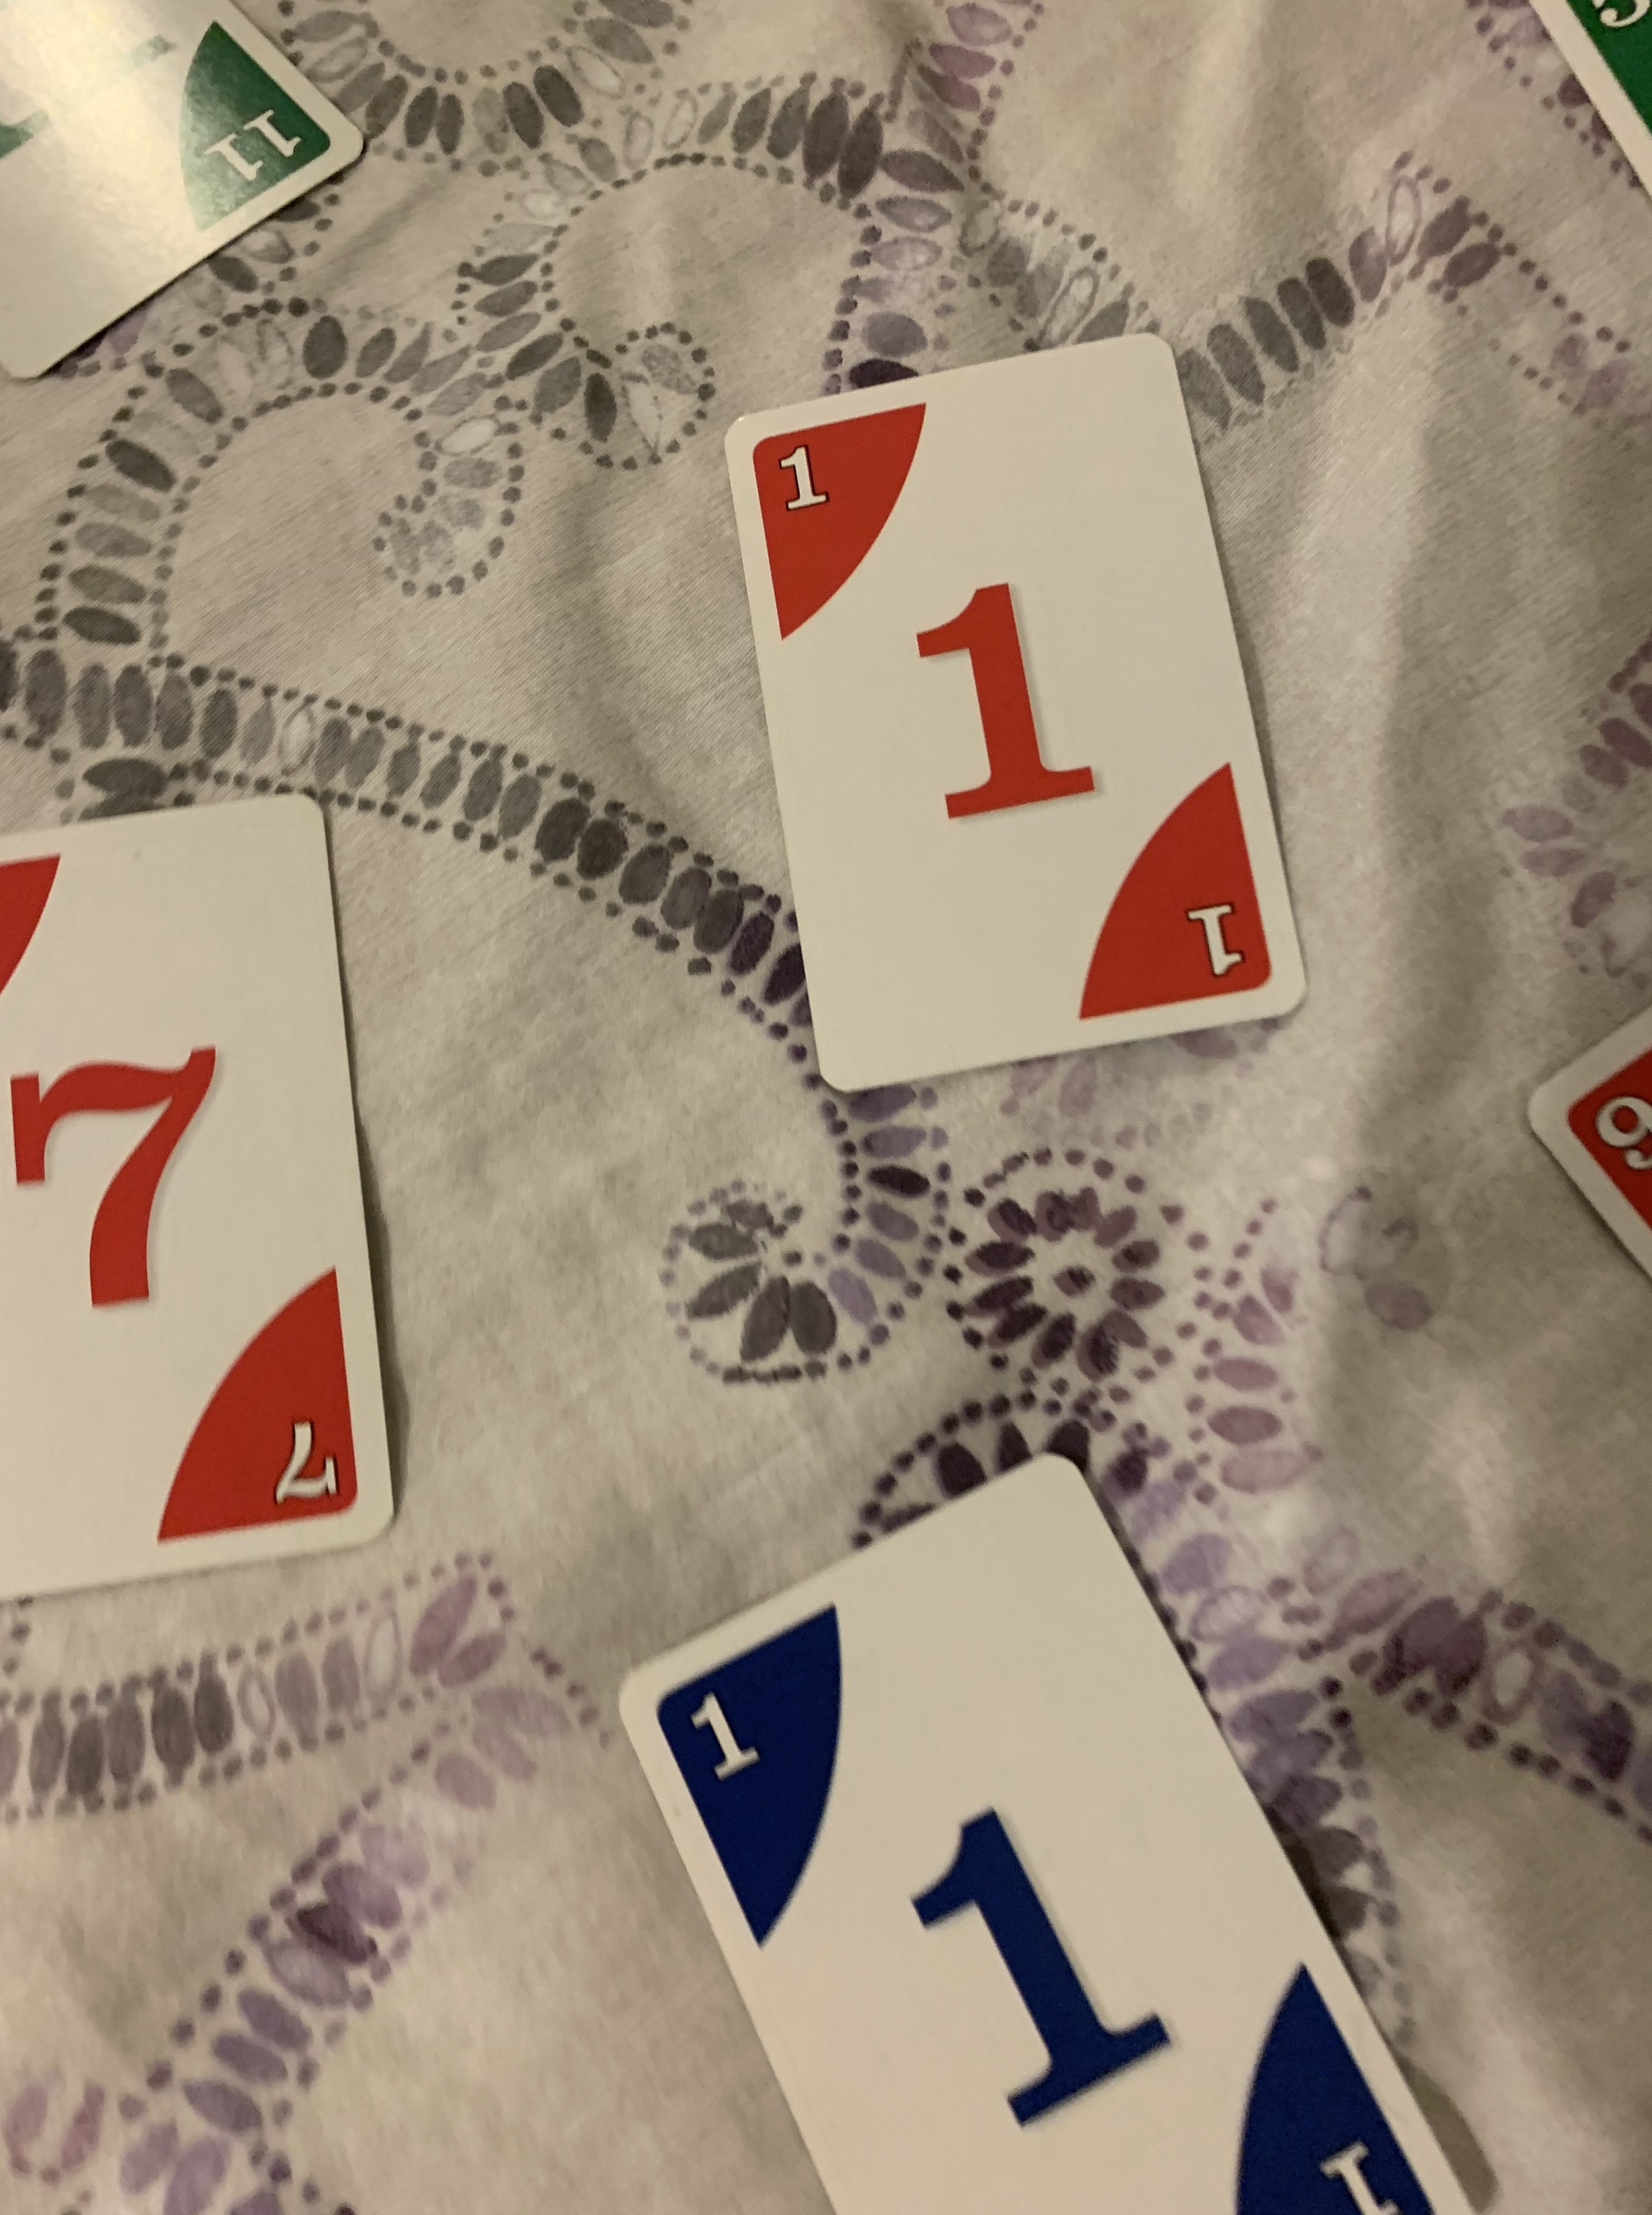one: (633, 1446, 1503, 2215), (708, 319, 1301, 1102)
seven: (0, 785, 403, 1620)
